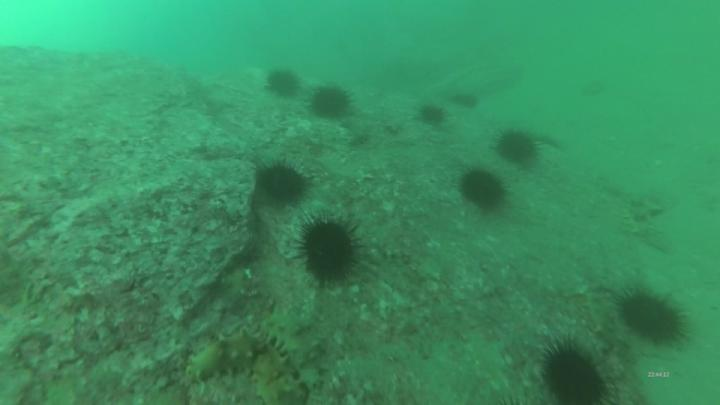echinus: (617, 287, 689, 352), (302, 214, 361, 286), (541, 346, 609, 405), (460, 163, 508, 213), (256, 163, 307, 204), (499, 127, 539, 167), (311, 85, 354, 117), (266, 69, 304, 101), (417, 102, 449, 128), (450, 91, 481, 112)
holothurian: (186, 329, 296, 405), (255, 313, 326, 392)
